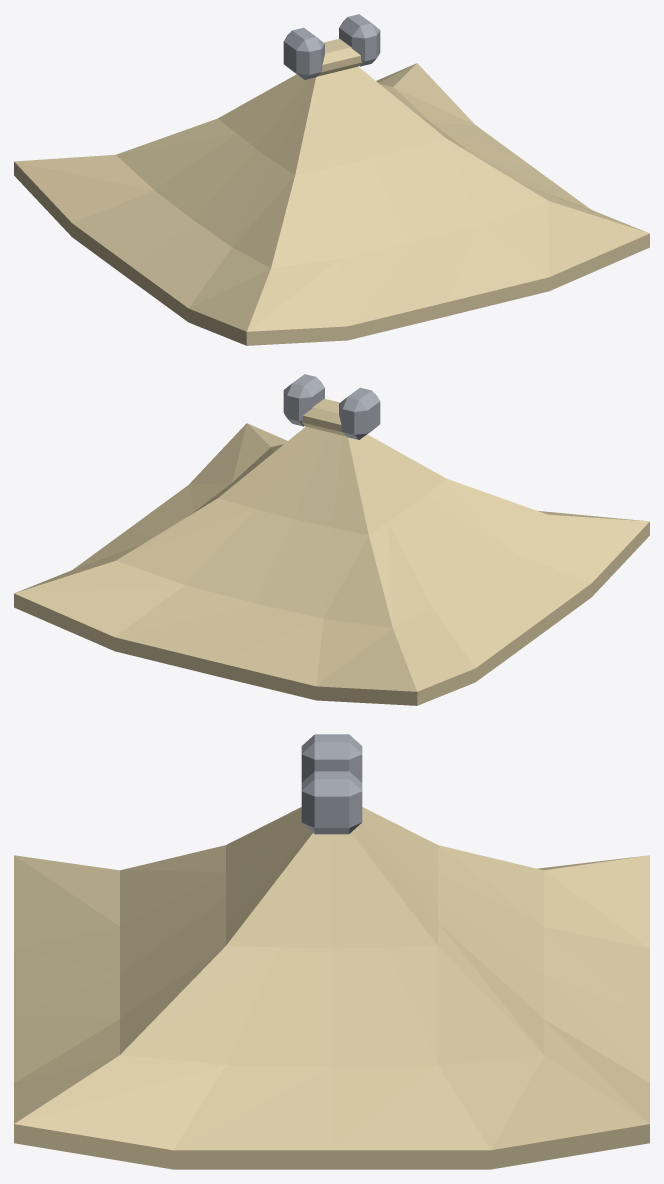
File: feudal-japan-castle-town-thatch-roof-hip-adbf4fd6__26318.glb
3 views of the same model, one above another, from view 1: azimuth 30°, elevation 25°; view 2: azimuth 150°, elevation 25°; view 3: azimuth 270°, elevation 25° (orthographic). The views are drawn at different scales.
Visible parts, largest first — view 1: thatch-roof-hip; view 2: thatch-roof-hip; view 3: thatch-roof-hip.
Boxes of the visible parts, left/top/right/bottom form: thatch-roof-hip: left=14, top=14, right=649, bottom=345; thatch-roof-hip: left=14, top=374, right=649, bottom=705; thatch-roof-hip: left=14, top=734, right=649, bottom=1169.
Bounding box in the file's own units: 4.8 × 2.32 × 4.8.
